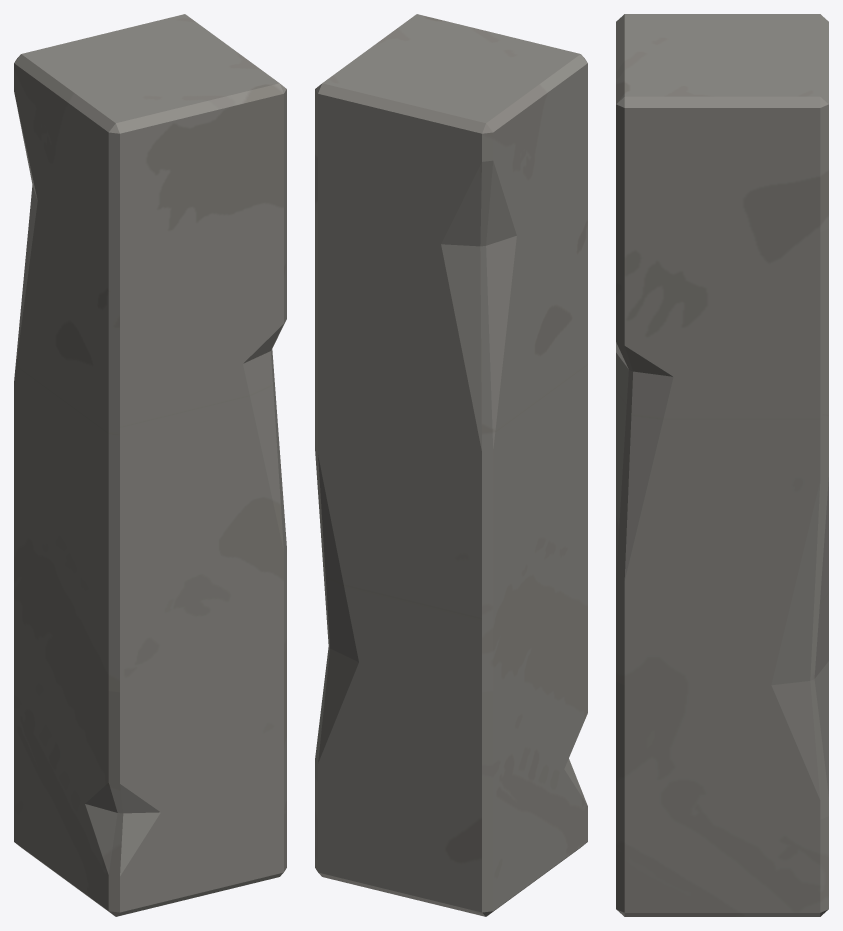
File: model_concrete_pillar_small.fbx
3 renders of one model, left to right at view 1: azimuth 30°, elevation 25°; view 2: azimuth 150°, elevation 25°; view 3: azimuth 270°, elevation 25°, orthographic. The views are drawn at different scales.
Visible parts, largest first — view 1: model_concrete_pillar_small; view 2: model_concrete_pillar_small; view 3: model_concrete_pillar_small.
Boxes of the visible parts, box(x1,y1,x2,y2) form: model_concrete_pillar_small: box(14, 14, 286, 916); model_concrete_pillar_small: box(315, 14, 587, 916); model_concrete_pillar_small: box(616, 14, 828, 916).
Bounding box in the file's own units: 82.24 × 350 × 82.24.
Materials: 1 (1 with a texture image).
